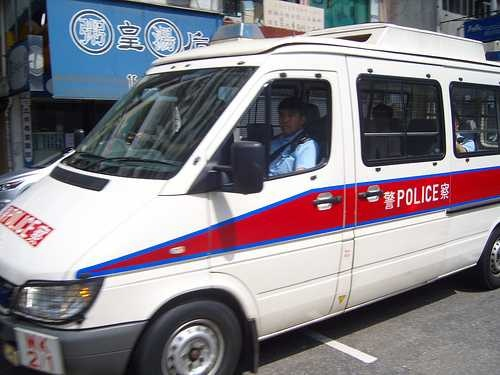Police Car: (14, 21, 500, 375)
